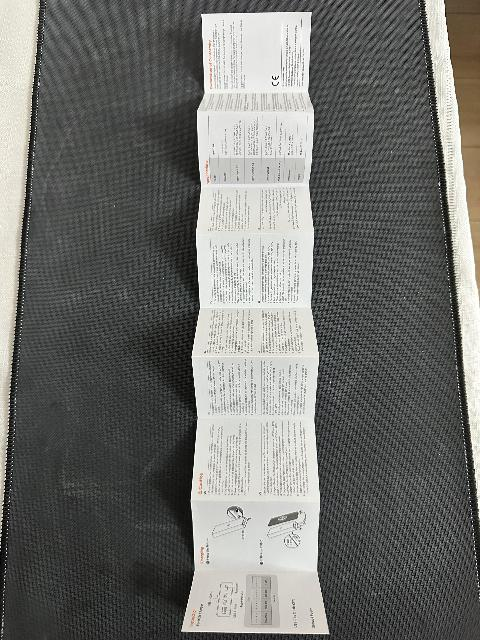Kagit: (192, 8, 329, 640)
